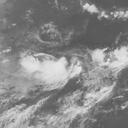cyclone: (21, 52, 77, 91)
